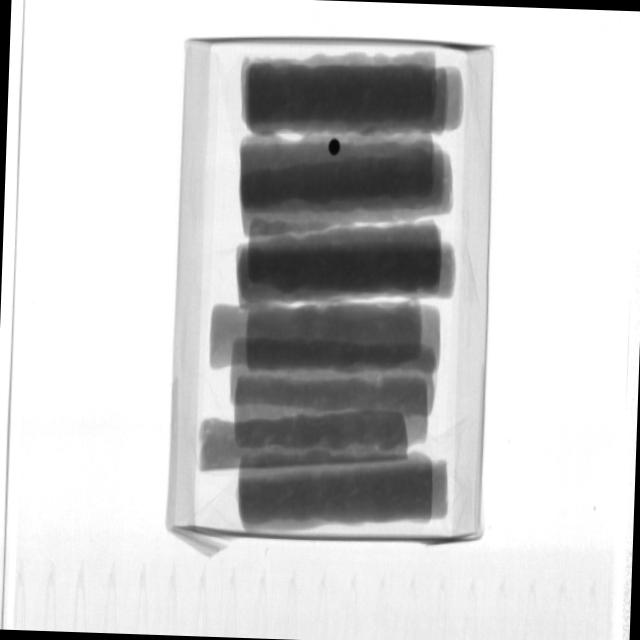ym: (328, 138, 341, 156)
